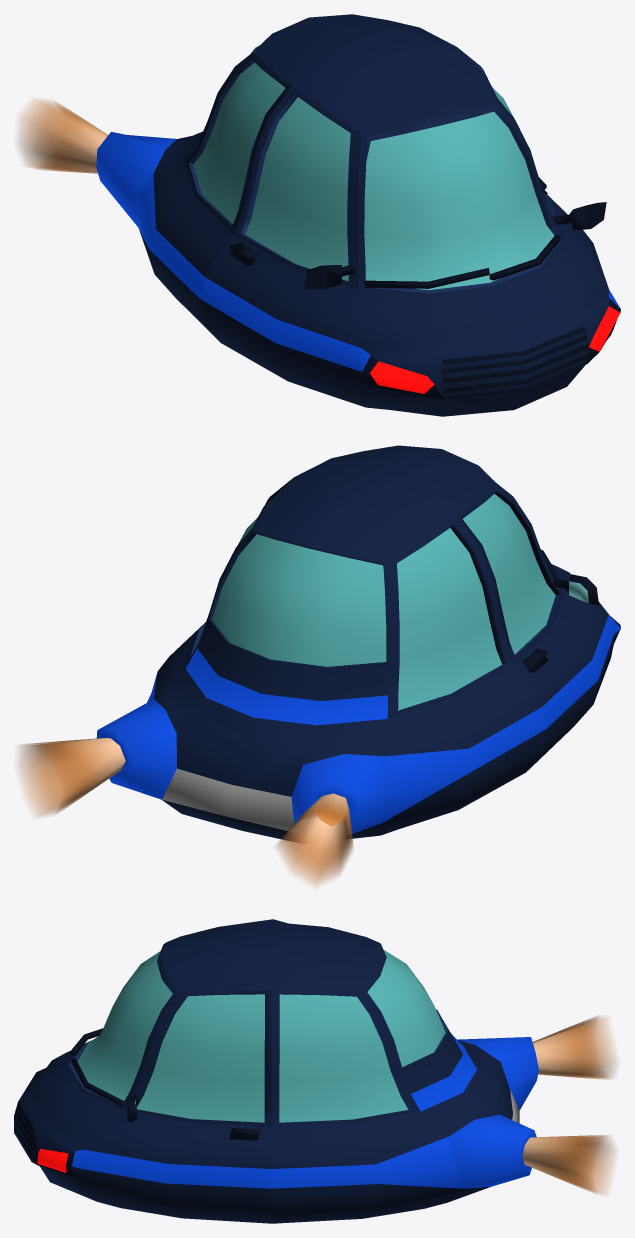
The model's file is Flying_Car_Blue.glb.
The picture shows the model from 3 angles, top to bottom: view 1: azimuth 30°, elevation 25°; view 2: azimuth 150°, elevation 25°; view 3: azimuth 270°, elevation 25°; orthographic projection. The views are drawn at different scales.
Visible parts, largest first — view 1: flyingCar_Blue; view 2: flyingCar_Blue; view 3: flyingCar_Blue.
Part boxes in pixels (bbox=[...]): flyingCar_Blue: bbox=[18, 14, 620, 416]; flyingCar_Blue: bbox=[18, 445, 620, 885]; flyingCar_Blue: bbox=[14, 919, 616, 1223].
Size of what is drawn, in the model's own units: 2.78 by 2.22 by 4.97.
2 materials, 2 textured.
